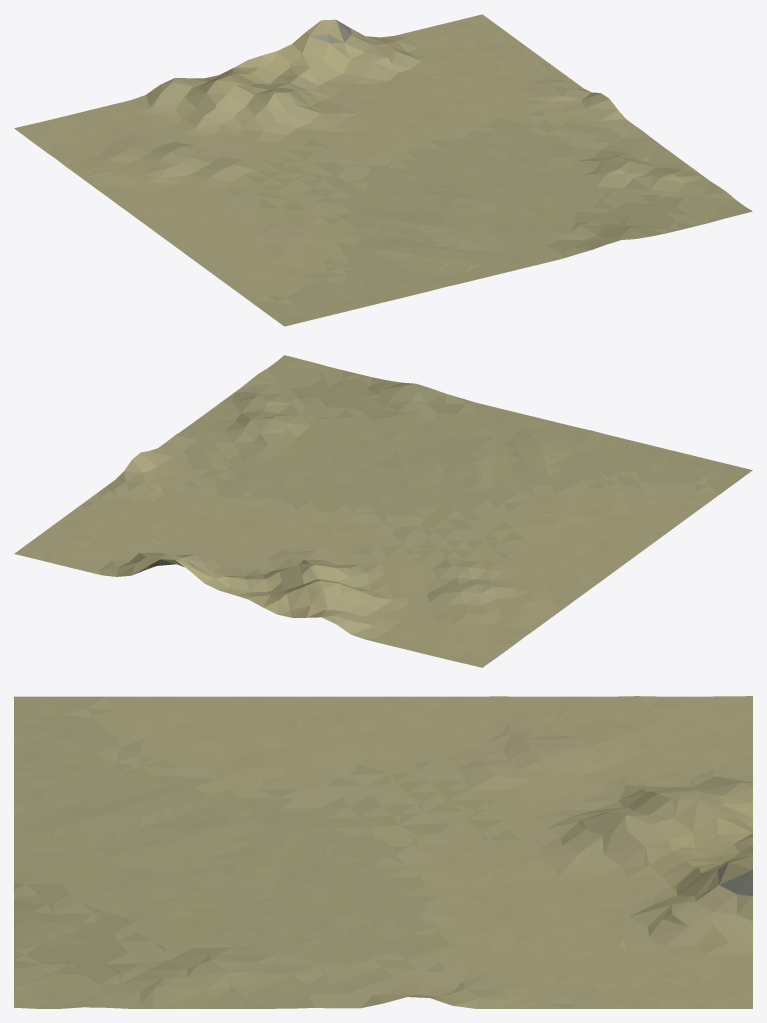
File: Ground_6_0.glb
The picture shows the model from 3 angles, top to bottom: view 1: azimuth 30°, elevation 25°; view 2: azimuth 150°, elevation 25°; view 3: azimuth 270°, elevation 25°; orthographic projection. The views are drawn at different scales.
Visible parts, largest first — view 1: Ground_6_0; view 2: Ground_6_0; view 3: Ground_6_0.
Boxes of the visible parts, x1=… form: Ground_6_0: x1=14, y1=14, x2=752, y2=326; Ground_6_0: x1=14, y1=355, x2=752, y2=667; Ground_6_0: x1=14, y1=696, x2=752, y2=1008.
Bounding box in the file's own units: 768 × 52.31 × 768.
